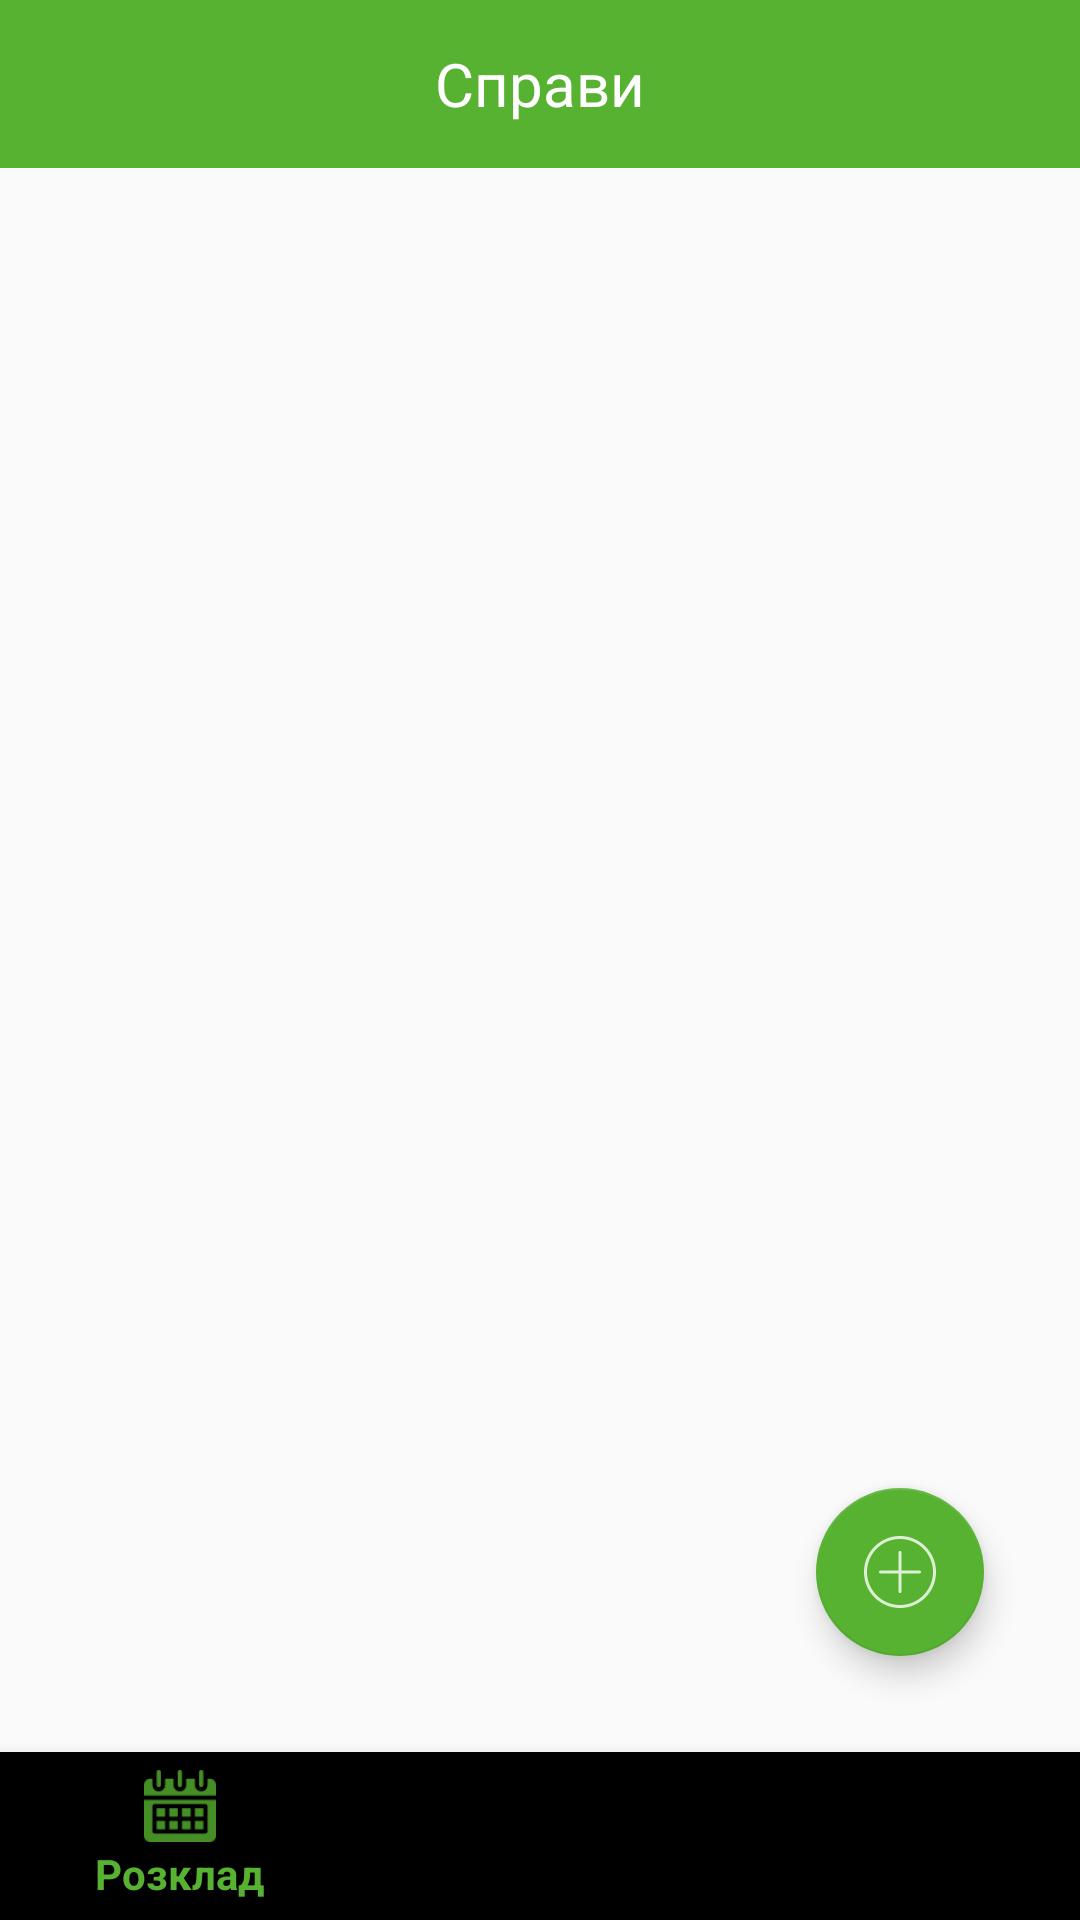

Point at icon controls on the screen. Image size 1080×1920, points as point (x, y).
add: point (900, 1572)
